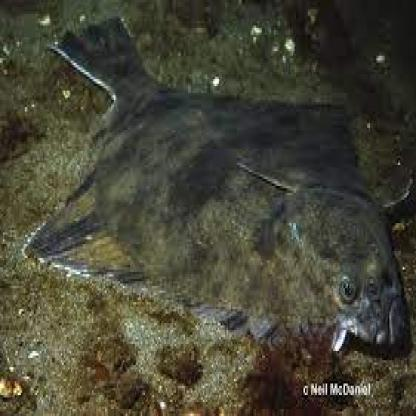flounder: (18, 13, 416, 360)
